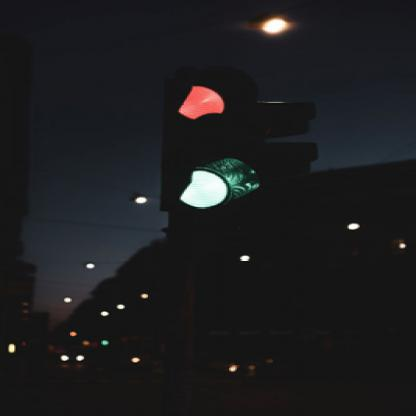trafficlight: (151, 63, 323, 240)
